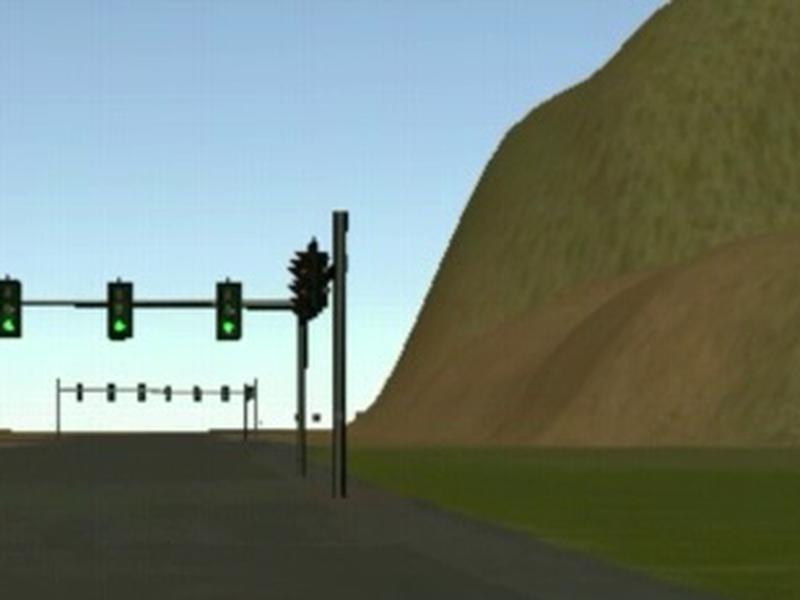Green: (105, 282, 133, 339), (216, 281, 241, 341), (1, 281, 20, 337)
